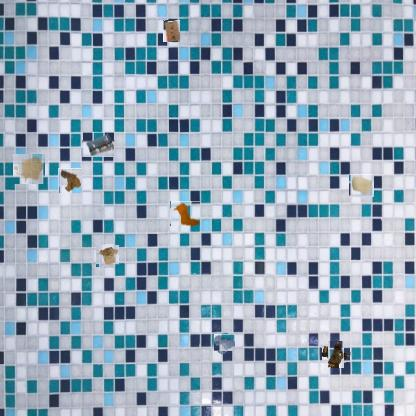dirty: (82, 132, 114, 157), (170, 201, 200, 226), (58, 168, 82, 193), (348, 174, 374, 197), (96, 245, 118, 268), (326, 344, 348, 366), (163, 20, 180, 42)
liquid: (13, 154, 45, 184), (215, 333, 234, 353)
